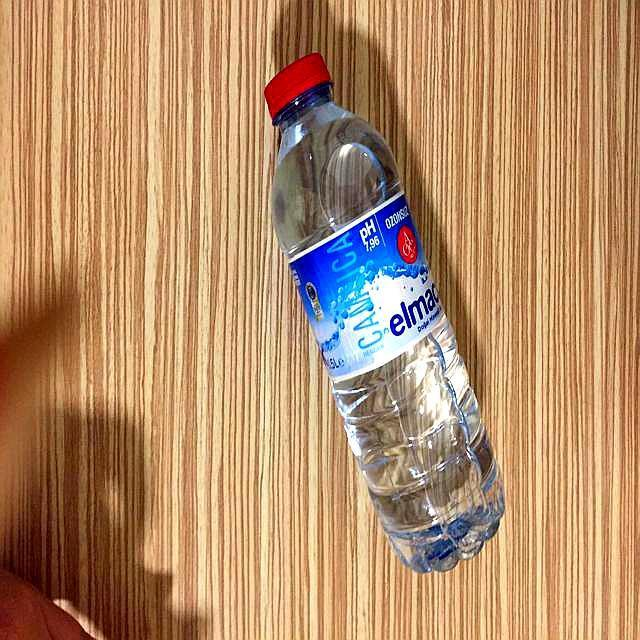Non-biodegradable: (199, 39, 527, 599)
